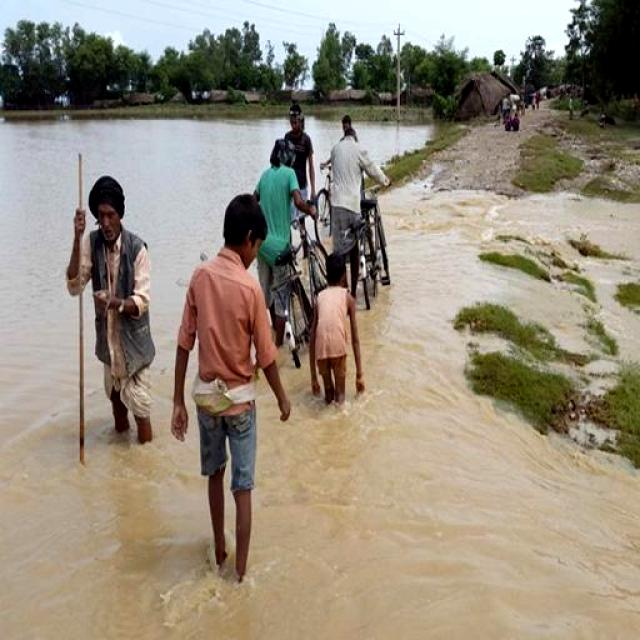civilian: (171, 184, 300, 590), (54, 147, 173, 466), (320, 119, 385, 312), (253, 131, 300, 374), (309, 258, 374, 414), (274, 95, 328, 255), (330, 107, 357, 140)
